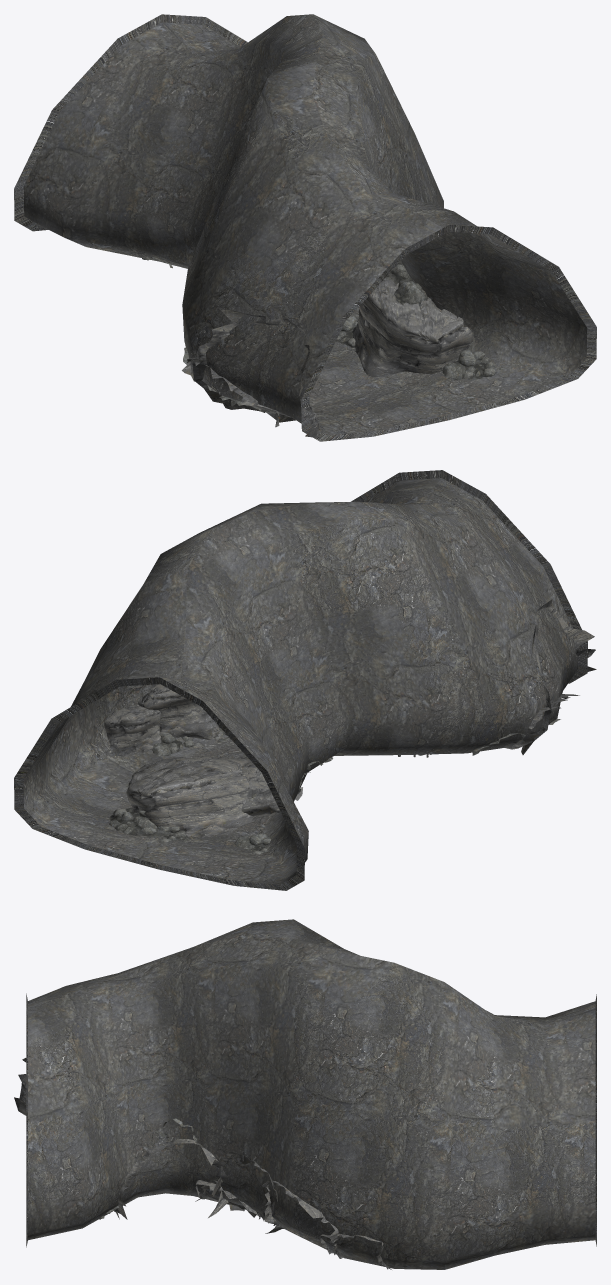
Rendered from cavestraight03.dae.
3 views of the same model, one above another, from view 1: azimuth 30°, elevation 25°; view 2: azimuth 150°, elevation 25°; view 3: azimuth 270°, elevation 25° (orthographic).
Visible parts, largest first — view 1: CaveWall, StriatedRock, RockPile; view 2: CaveWall, StriatedRock, RockPile; view 3: CaveWall, StriatedRock.
Part boxes in pixels (<box>): CaveWall: <box>14,14,596,441</box>; StriatedRock: <box>182,278,474,437</box>; RockPile: <box>142,257,503,412</box>; CaveWall: <box>14,470,587,890</box>; StriatedRock: <box>104,599,596,837</box>; RockPile: <box>109,718,560,854</box>; CaveWall: <box>26,919,596,1269</box>; StriatedRock: <box>14,1058,391,1269</box>.
Bounding box in the file's own units: 1810 × 2568 × 1319.
